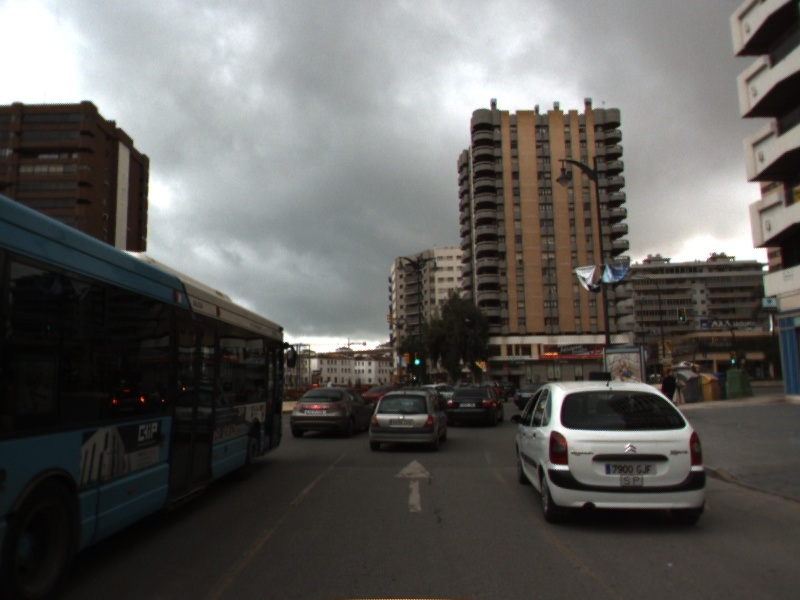STRAIGHT: (391, 457, 437, 514)
